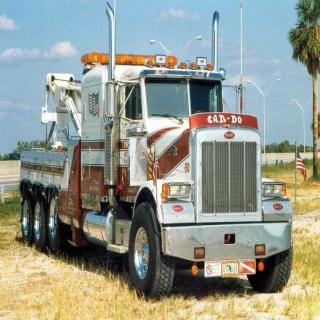Towing_truck: (18, 3, 295, 301)
